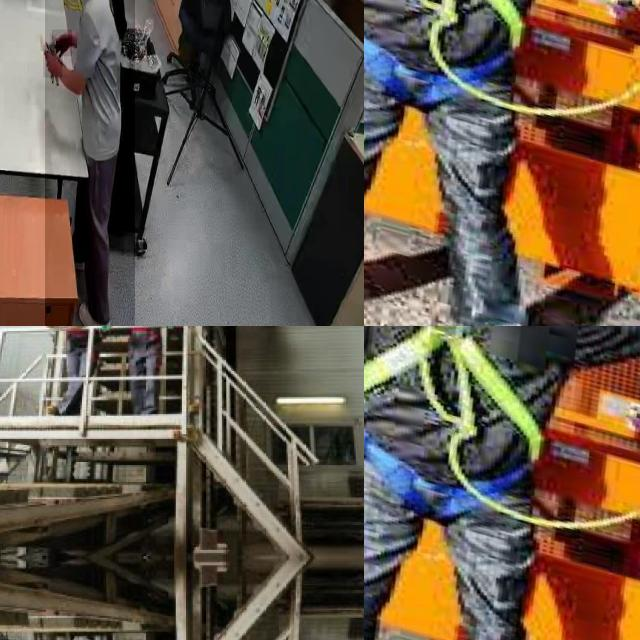Ear-protection: (100, 326, 181, 452)
Harness: (364, 326, 543, 462)
hand_noglove: (43, 44, 63, 78), (52, 30, 72, 57)
person: (44, 0, 135, 326), (28, 326, 99, 422)
shoes: (75, 295, 121, 326)
